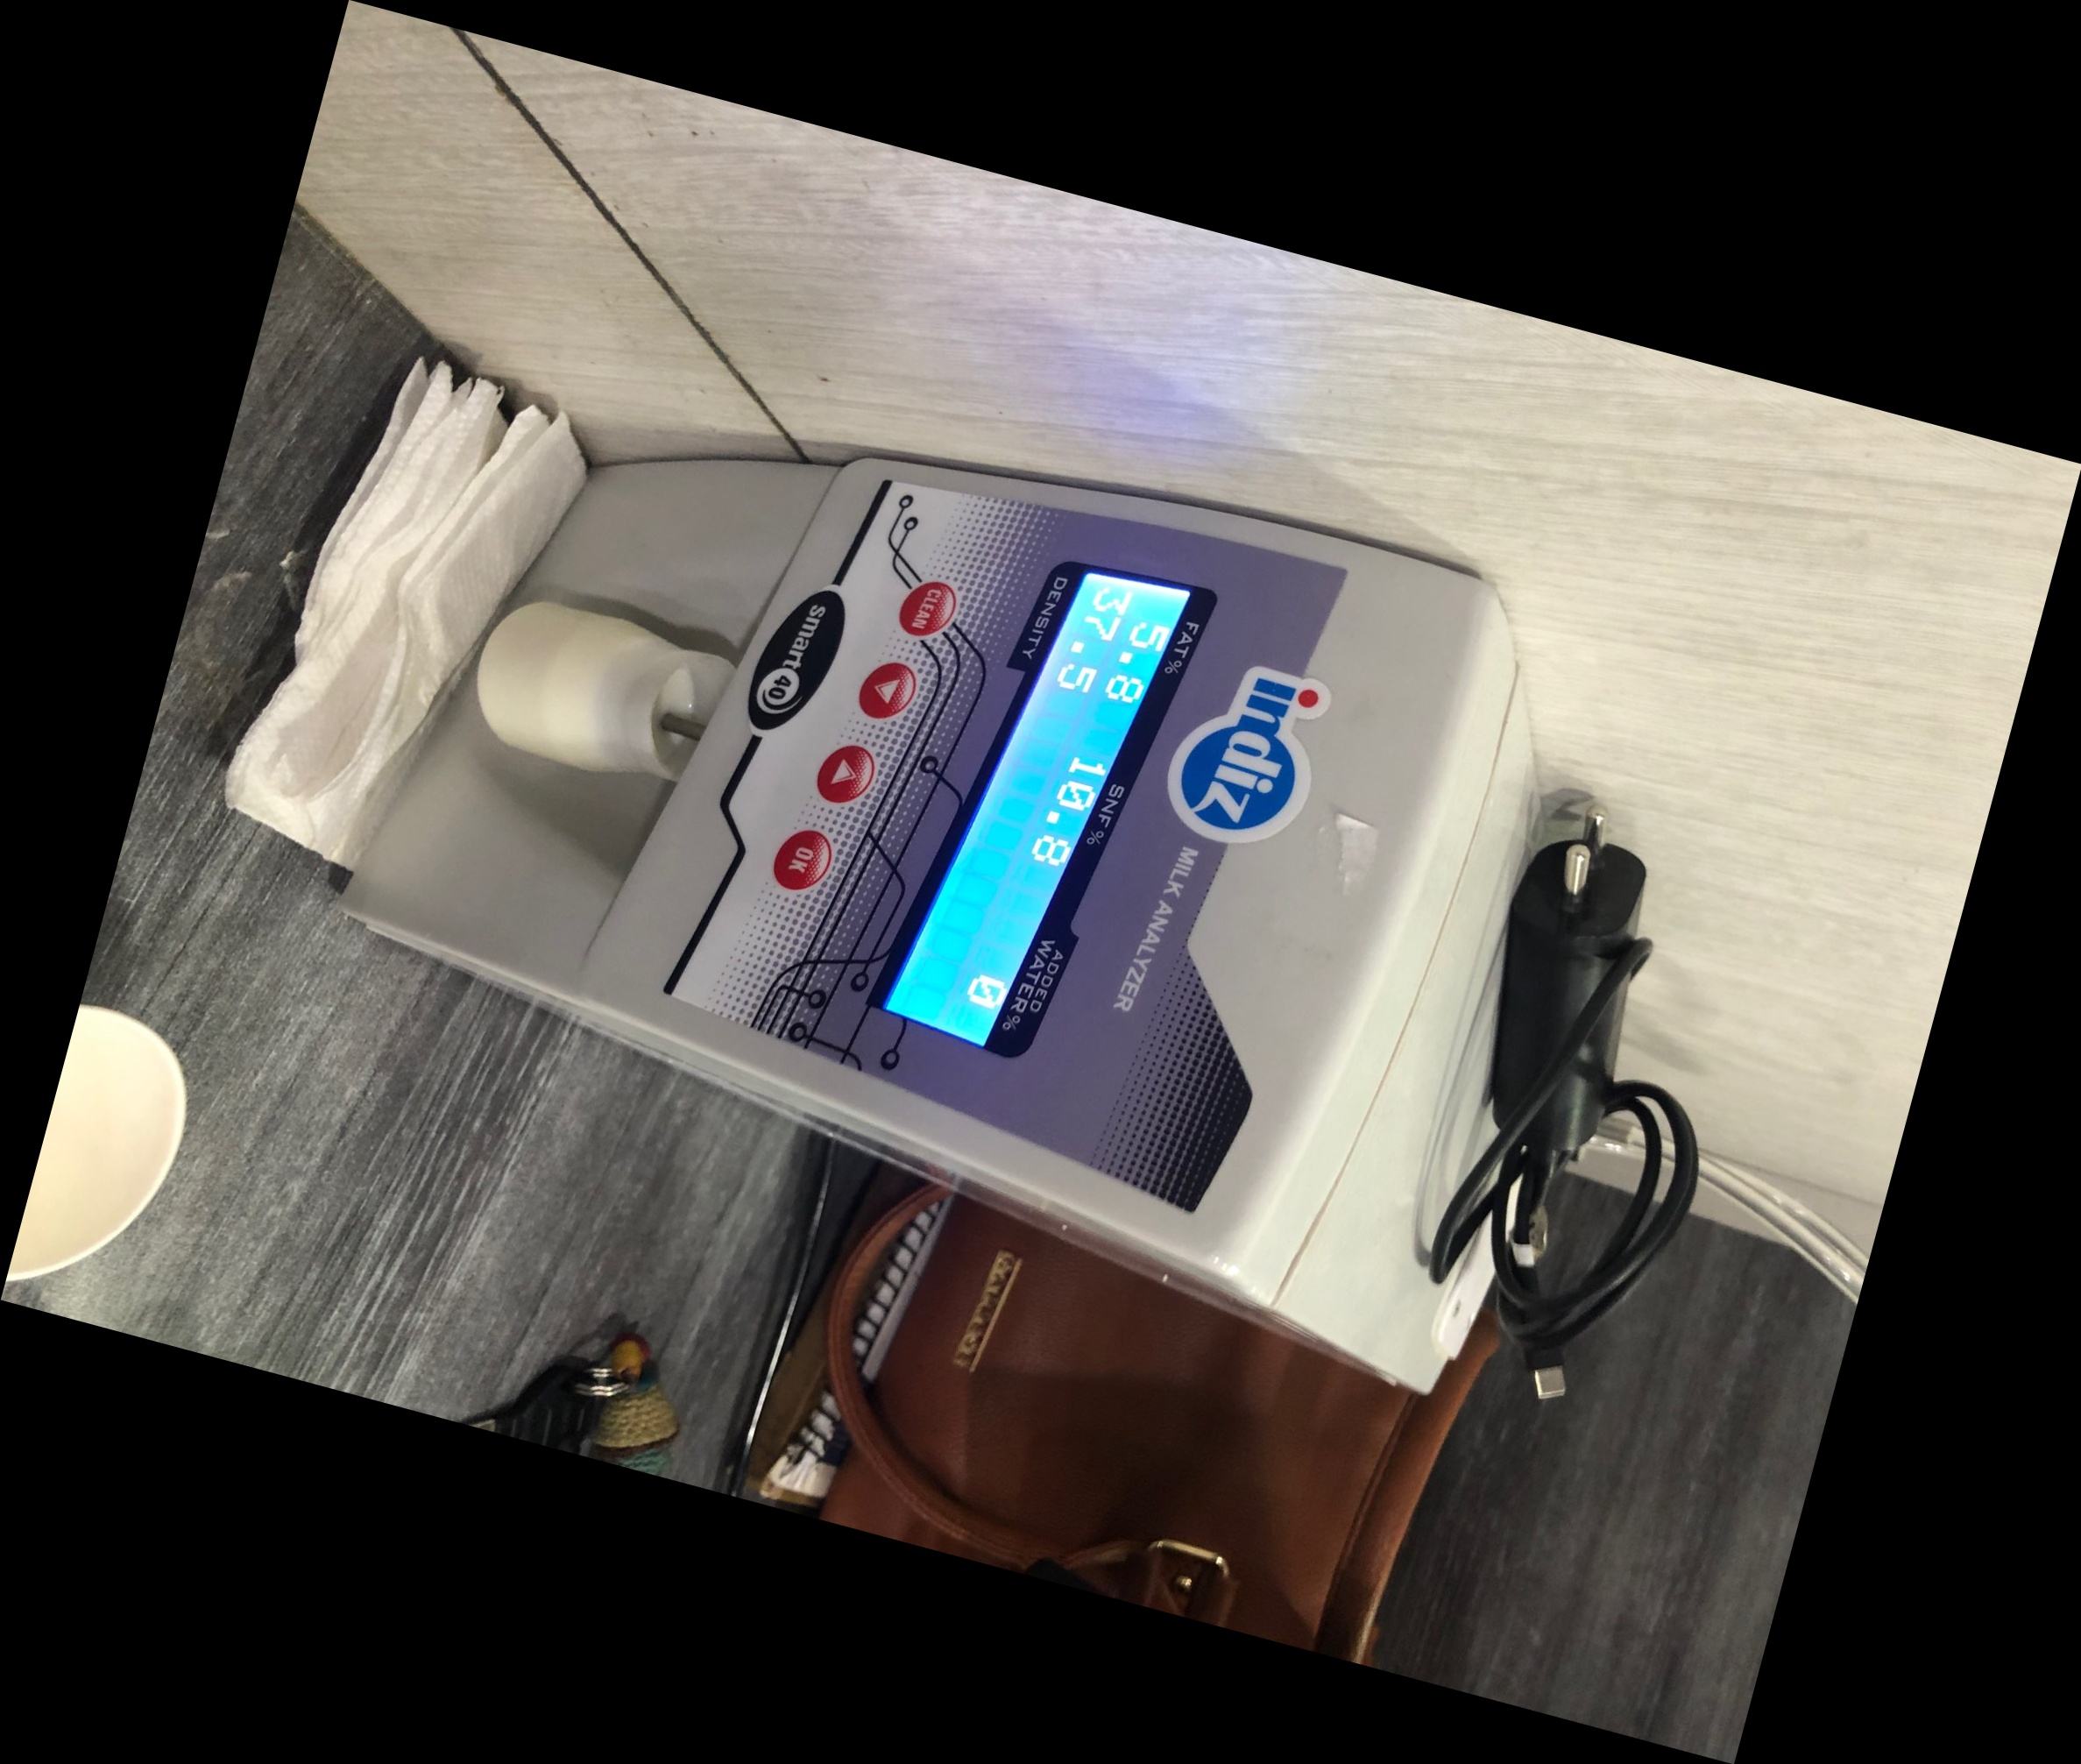lcd: (861, 544, 1234, 1071)
